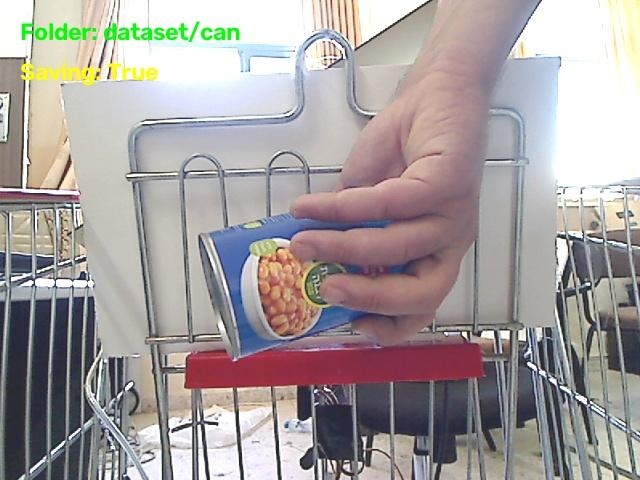can: (199, 214, 404, 359)
